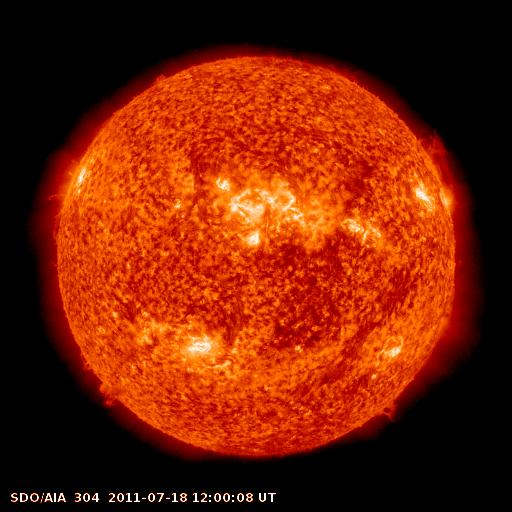prominence: (410, 120, 475, 191), (43, 184, 69, 251), (372, 391, 406, 429), (91, 378, 117, 418), (72, 343, 98, 382)
